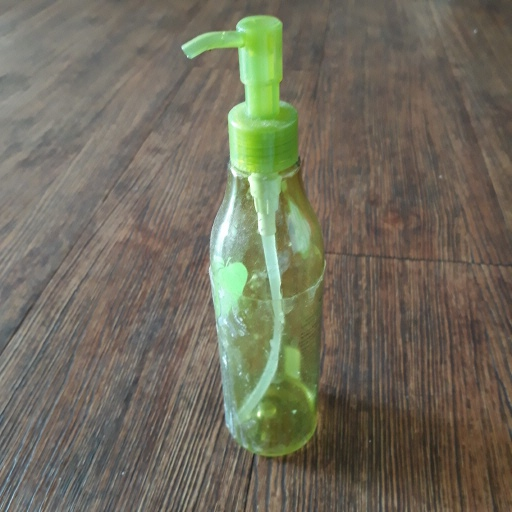Plastic_3: (181, 14, 329, 456)
